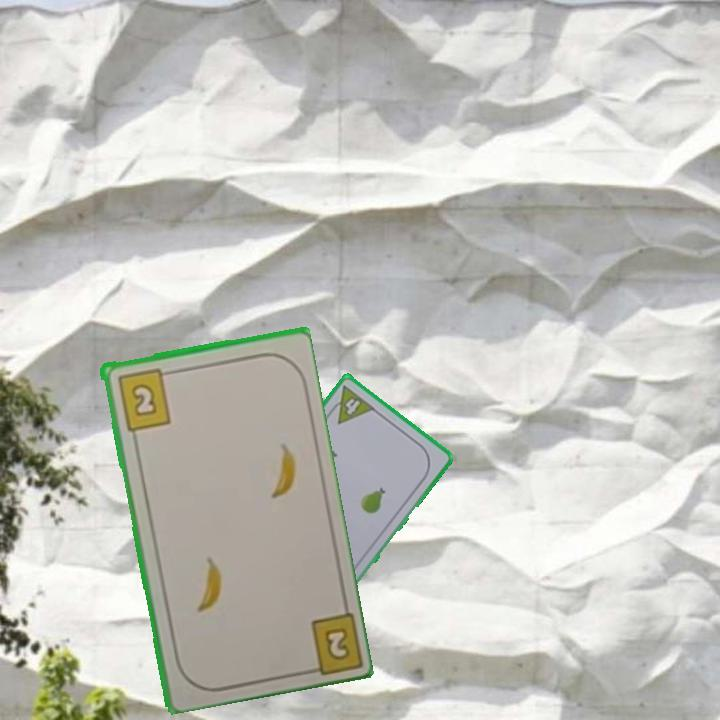2b: (298, 606, 363, 677), (113, 365, 174, 433)
4p: (323, 382, 378, 427)
